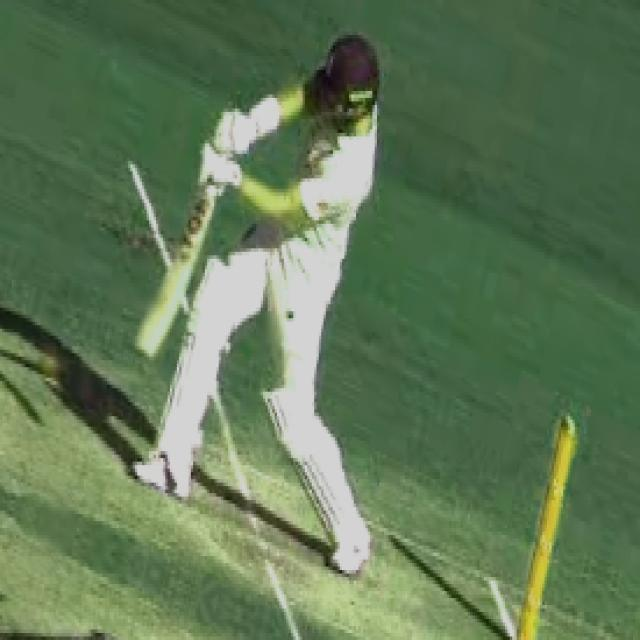toe: (128, 303, 174, 366)
